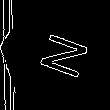N_W: (26, 26, 87, 81)
